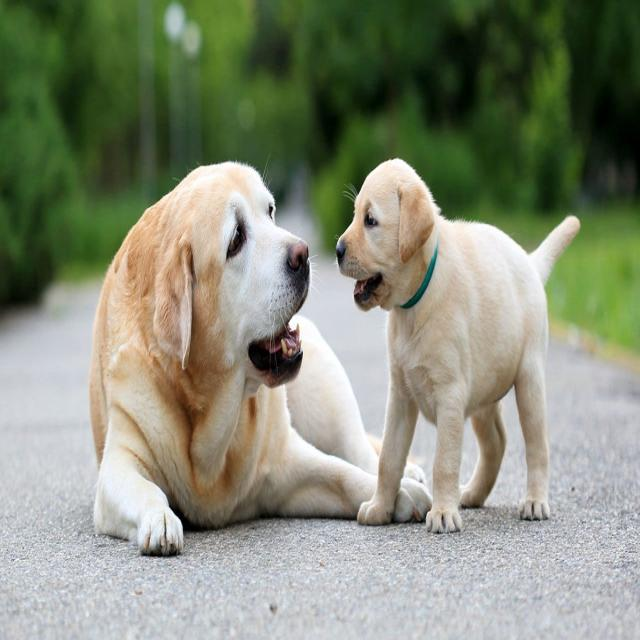Dog: (88, 150, 431, 566), (332, 134, 586, 533)
